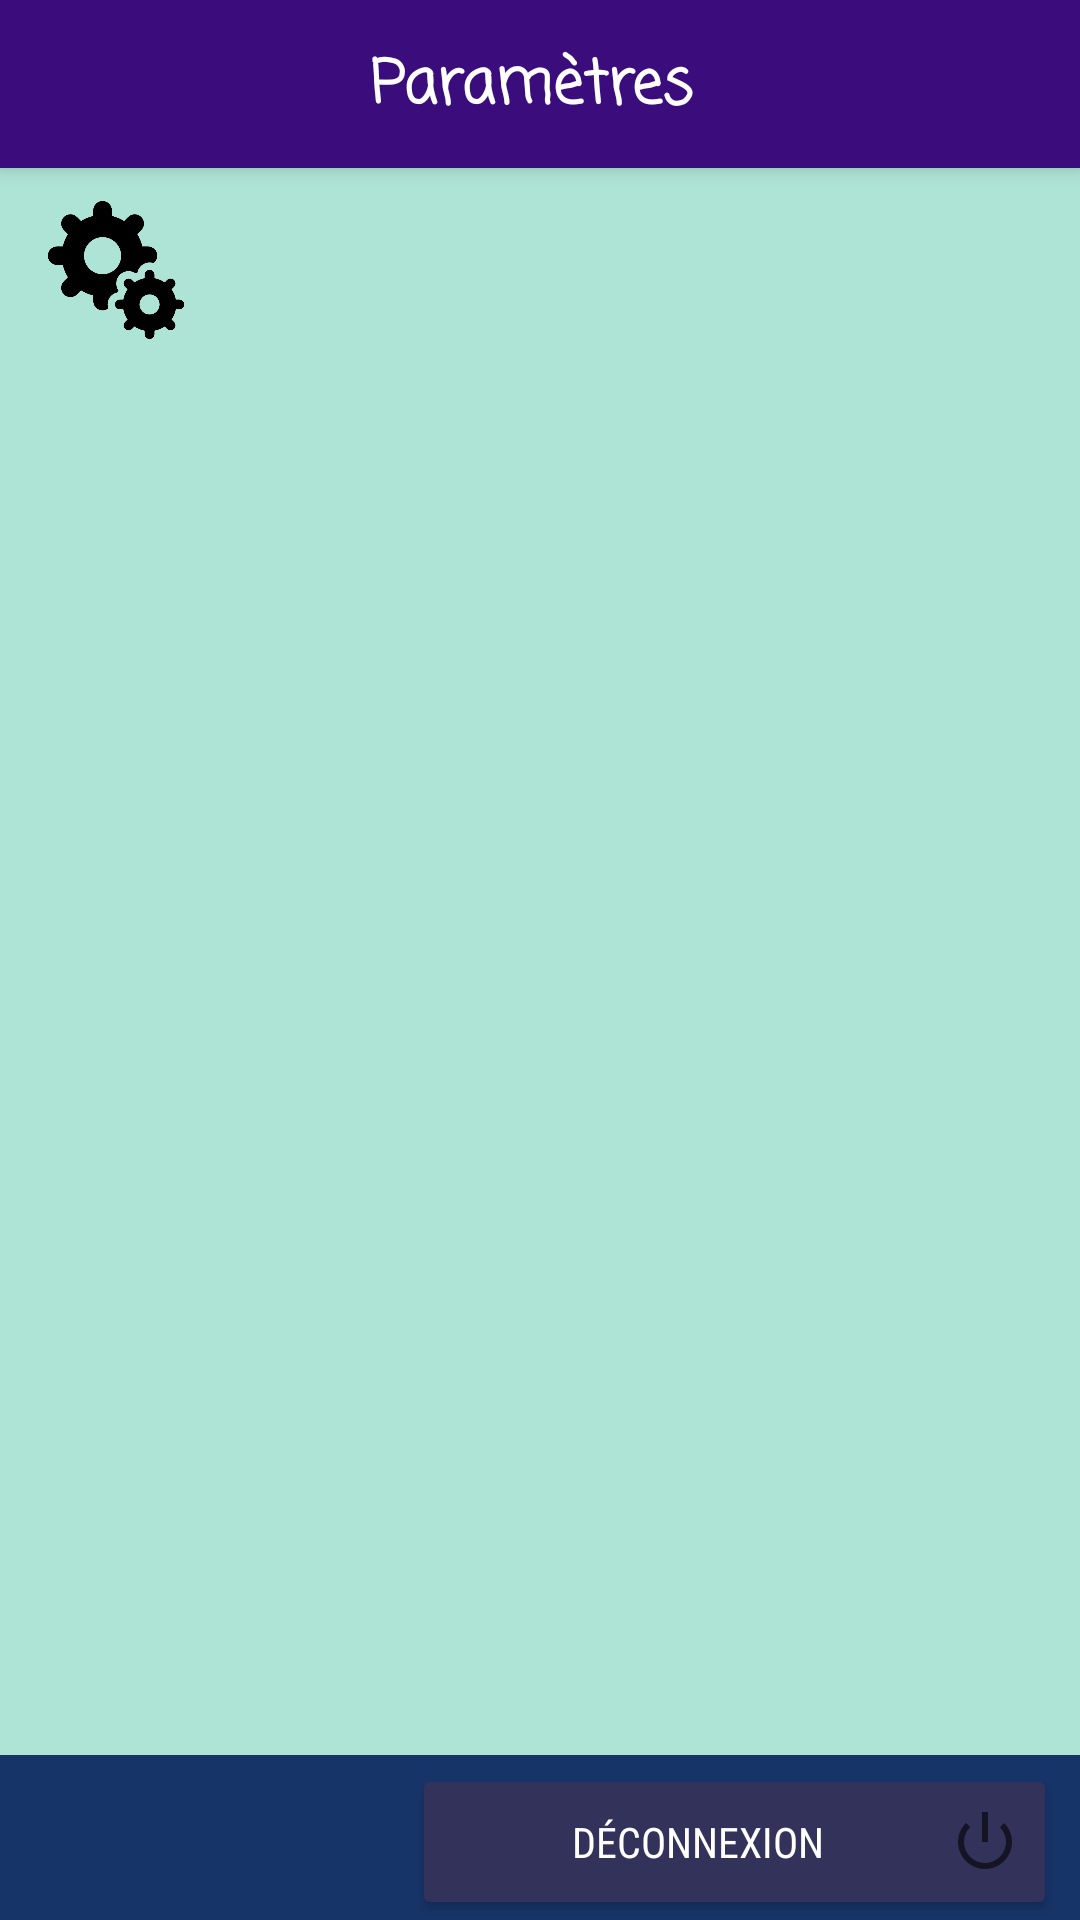

Screen size 1080×1920. Icon name, then its box in pixels as (x1, y1, x2, y2):
para: (48, 201, 184, 339)
